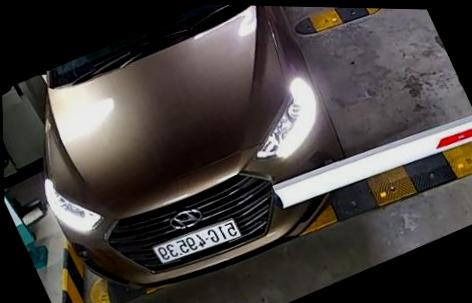License_Plate: (145, 203, 250, 277)
